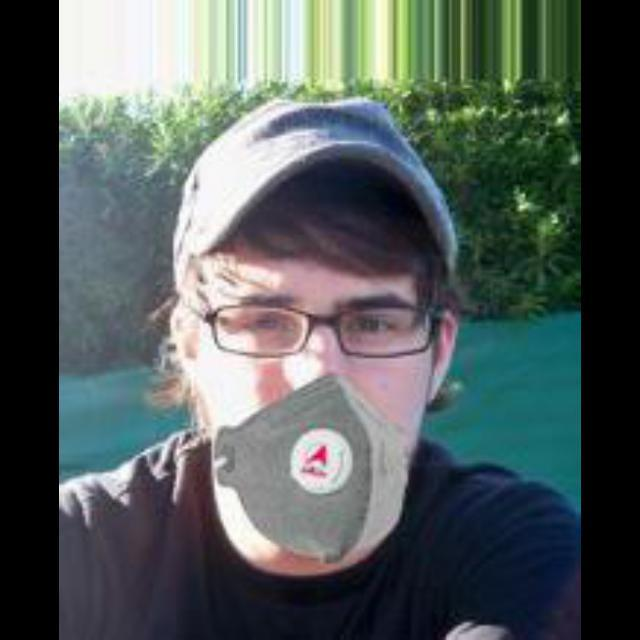suspicion: (143, 149, 477, 545)
